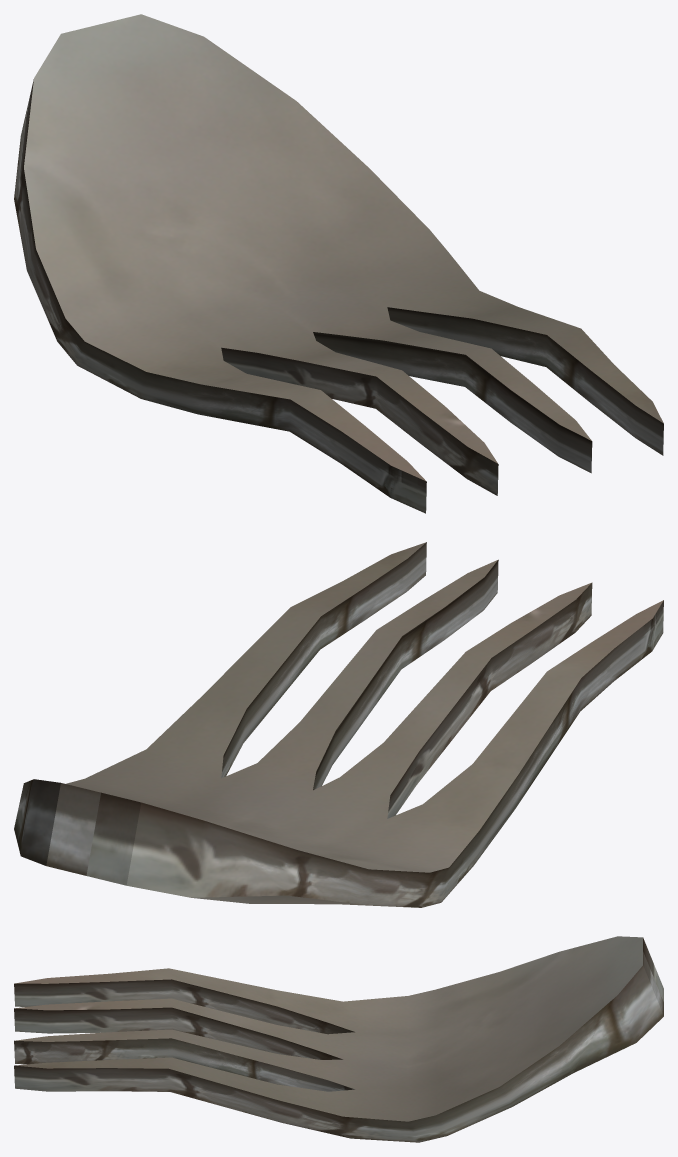
The model's file is Stemma.fbx.
3 renders of one model, top to bottom at view 1: azimuth 30°, elevation 25°; view 2: azimuth 150°, elevation 25°; view 3: azimuth 270°, elevation 25°, orthographic. The views are drawn at different scales.
Parts seen in each view (by area): view 1: Plane.001; view 2: Plane.001; view 3: Plane.001.
Boxes of the visible parts, box(x1,y1,x2,y2) form: Plane.001: box(14, 14, 663, 513); Plane.001: box(14, 542, 663, 907); Plane.001: box(14, 936, 663, 1142).
Size of the model in its own units: 69.72 by 33.9 by 152.
1 material, 1 textured.
